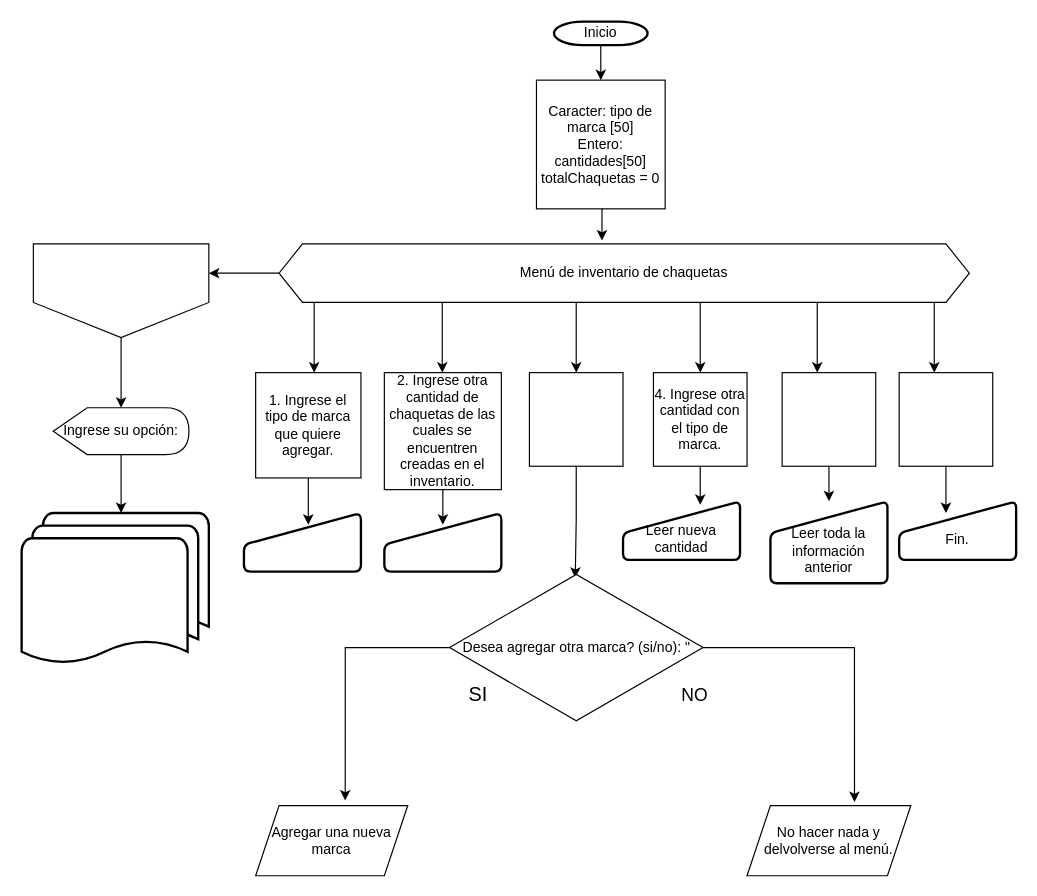
This 1037x896 diagram has some shape labels left out. Here are the shapes that lost their labels. From the top down, the centre of each, then its label:
[120,290]: opcion >= 1 && opcion <= 6
[575,418]: 3. Desea agregar otra marca si o no.
[828,418]: 5. Visualizar inventario total.
[945,418]: 6. Salir.
[302,541]: Leer marca.
[442,541]: Leer cantidad.
[114,588]: Muestra de inofrmación ya sea cantidad, marca o el inventario total.
